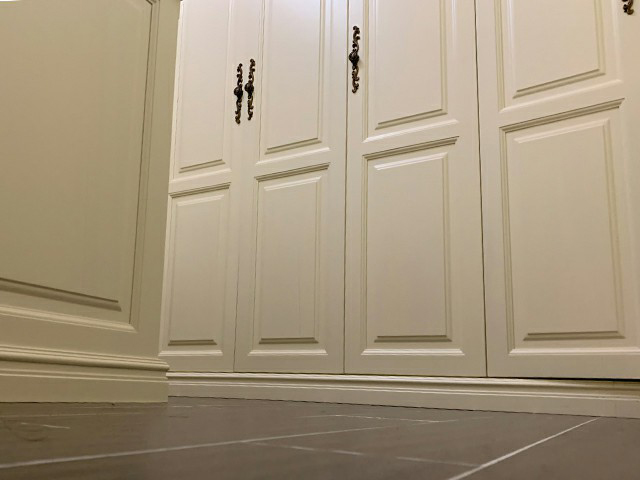cabinet: (160, 1, 640, 417), (1, 1, 178, 402)
